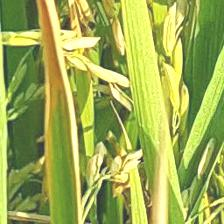2 BacterialBlight: (28, 1, 87, 207)
